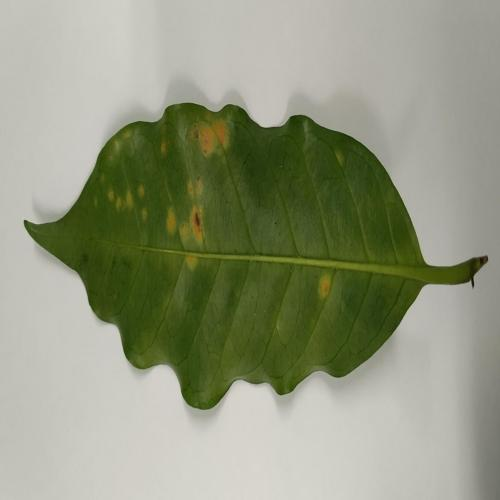phoma: (189, 112, 229, 156)
